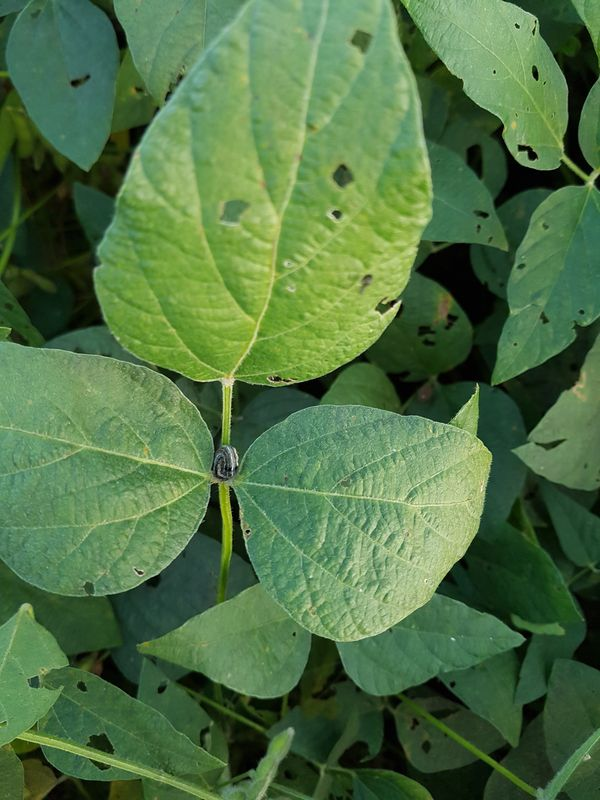Spodoptera_albula: (200, 439, 251, 493)
